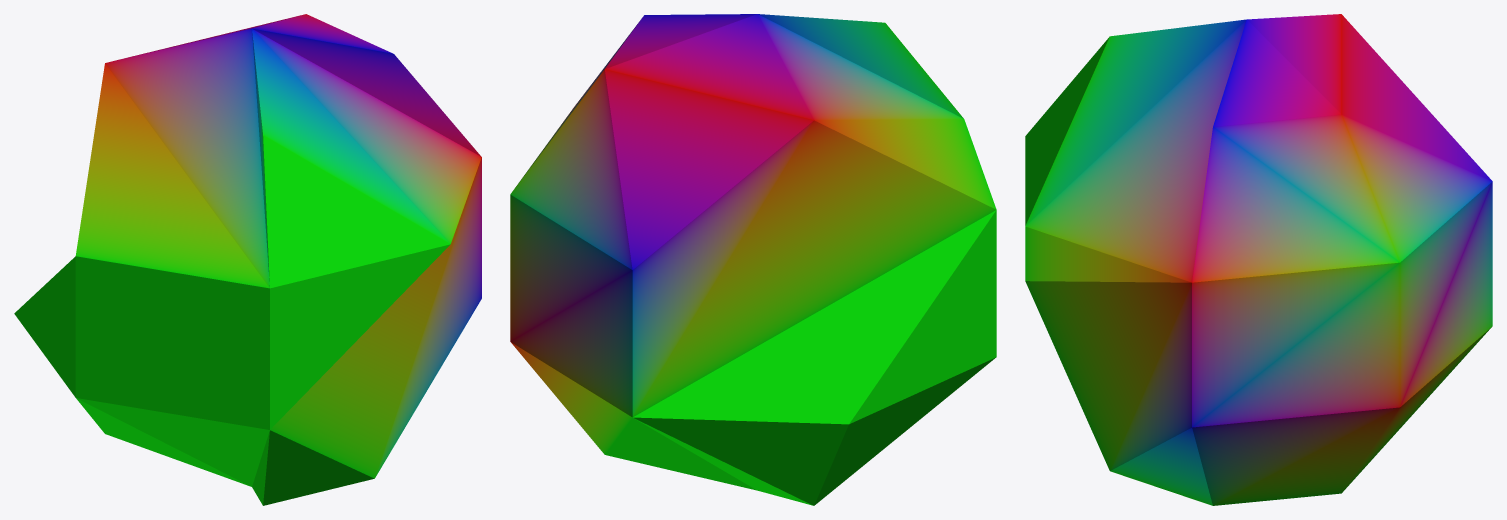
The model's file is all_13.obj.
The picture shows the model from 3 angles, left to right: view 1: azimuth 30°, elevation 25°; view 2: azimuth 150°, elevation 25°; view 3: azimuth 270°, elevation 25°; orthographic projection. The views are drawn at different scales.
Size of the model in its own units: 1.85 by 2 by 1.81.
